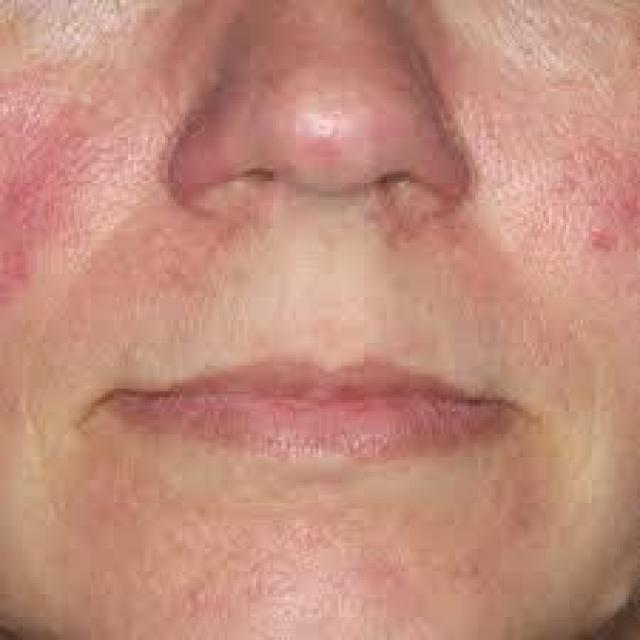Rosacea: (465, 75, 640, 269), (0, 86, 114, 299)
